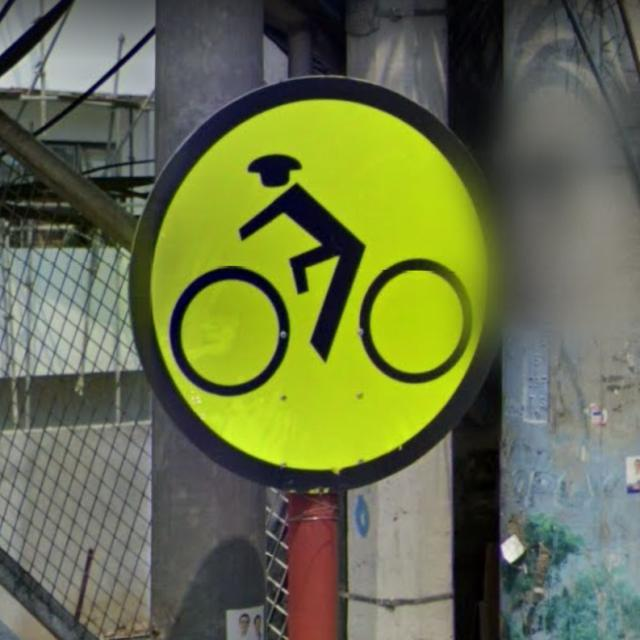bike lane: (129, 75, 506, 491)
